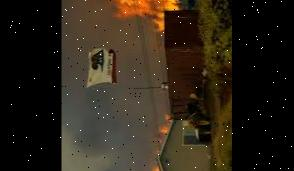fire: (75, 0, 184, 25), (146, 115, 182, 171)
